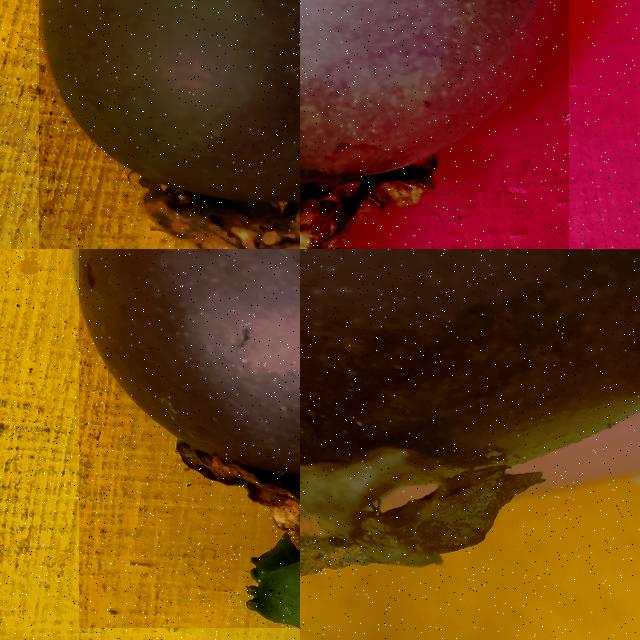Estado-2: (300, 0, 560, 249)
Estado-5: (79, 249, 300, 550)
Estado-6: (300, 249, 640, 572)
